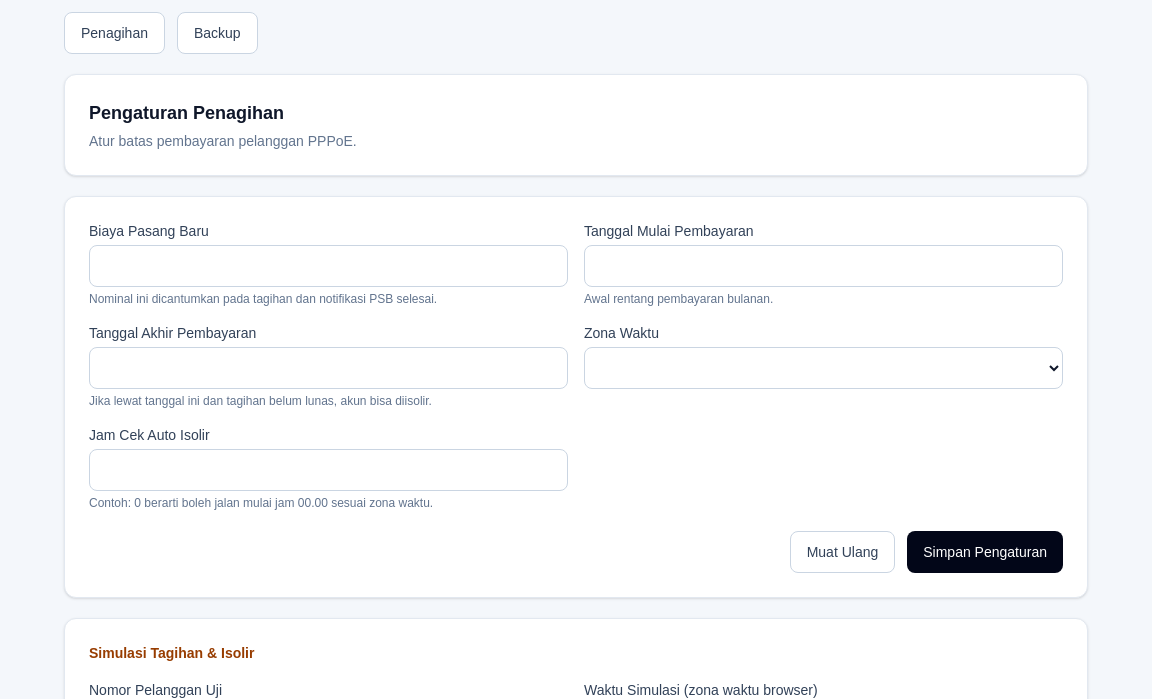
Test case: Settings PPPoE backup › opens Backup inside Settings and does not write to the router or import on load
Click the button "Backup" at (217, 33), box 177,12 -> 258,54
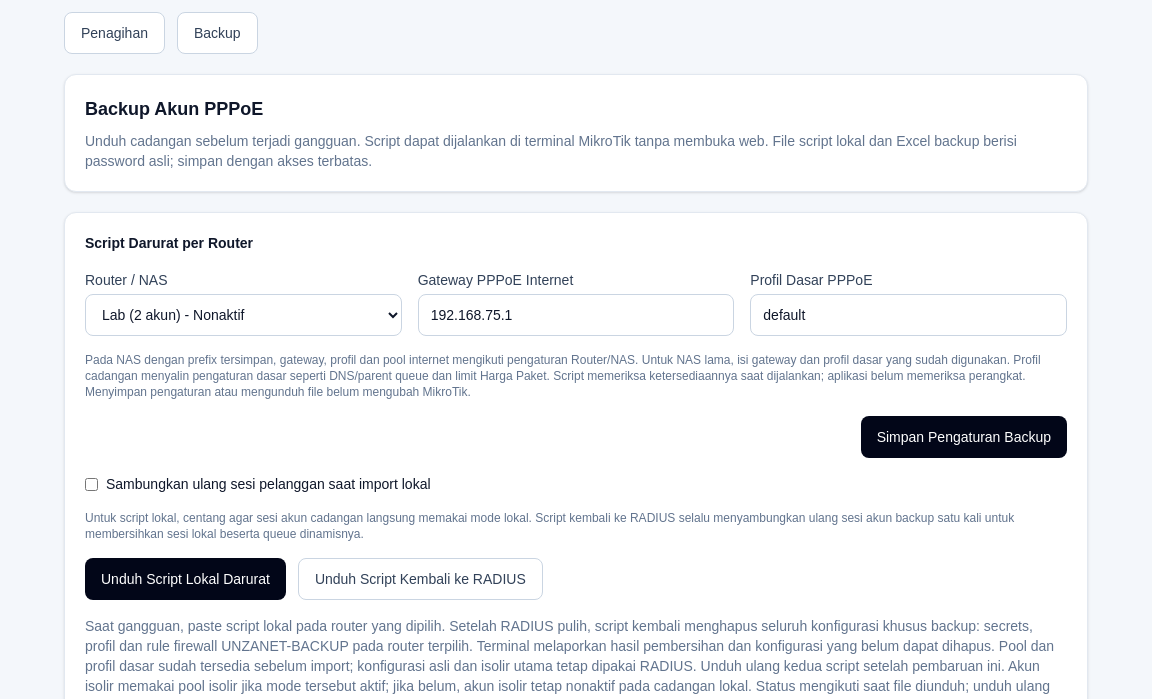
Now the text "Script Darurat per Router" is shown, box 85,235 -> 253,251
